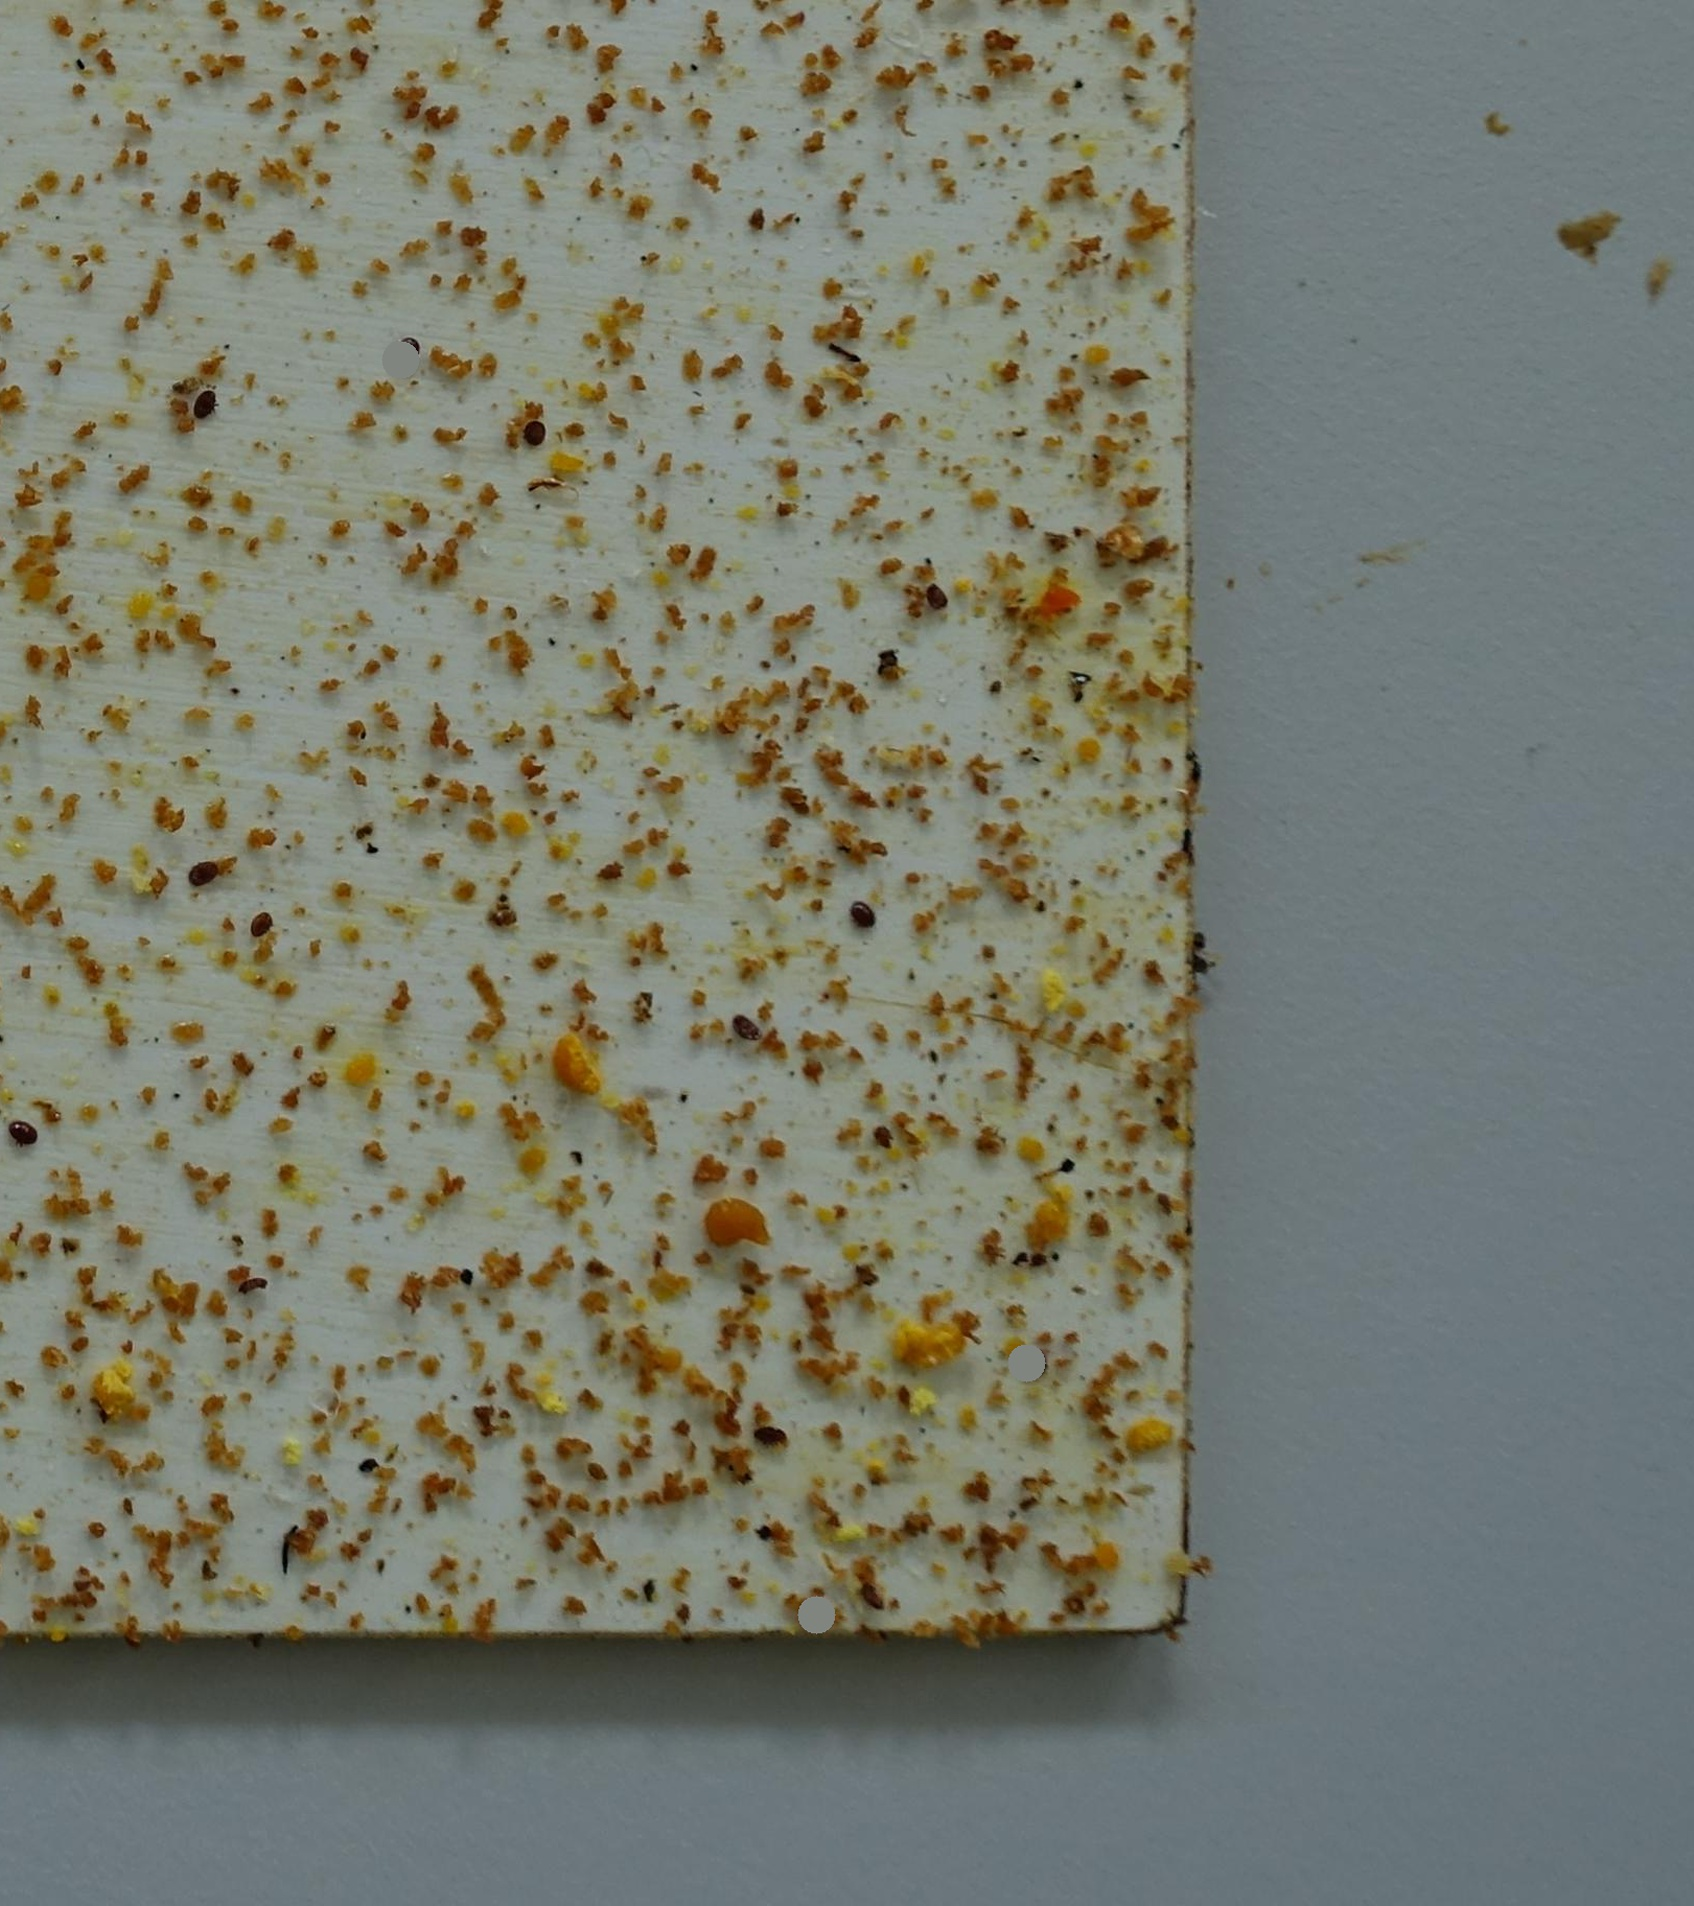Varroa: (232, 1264, 273, 1304), (845, 906, 875, 932), (762, 1416, 791, 1442), (188, 861, 214, 889), (530, 417, 553, 445), (11, 1121, 38, 1144), (930, 592, 950, 616), (253, 919, 271, 942), (203, 396, 221, 418), (402, 337, 419, 356), (741, 1017, 759, 1033)
